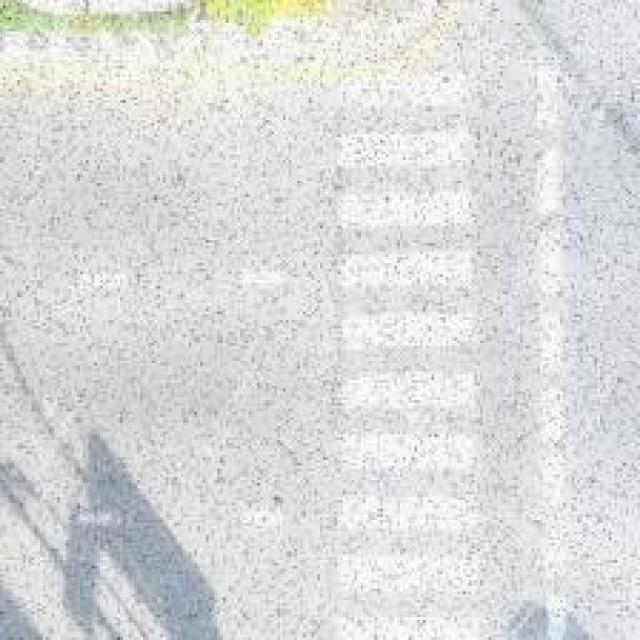crosswalk: (334, 74, 486, 635)
